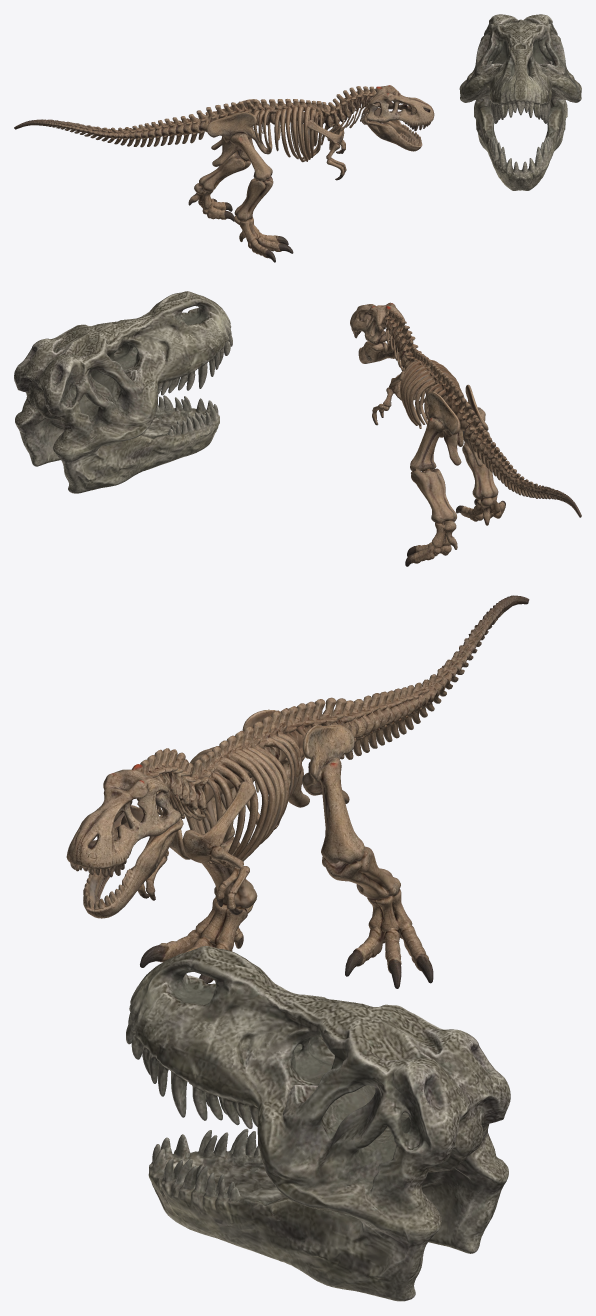
The model's file is trex.glb.
3 views of the same model, one above another, from view 1: azimuth 30°, elevation 25°; view 2: azimuth 150°, elevation 25°; view 3: azimuth 270°, elevation 25° (orthographic). The views are drawn at different scales.
Parts seen in each view (by area): view 1: body, head; view 2: head, body; view 3: head, body.
Boxes of the visible parts, left/top/right/bottom form: body: left=14, top=85, right=434, bottom=262; head: left=459, top=14, right=581, bottom=190; head: left=14, top=291, right=232, bottom=493; body: left=350, top=302, right=581, bottom=566; head: left=126, top=946, right=510, bottom=1301; body: left=66, top=595, right=529, bottom=988.
Size of the model in its own units: 2.74 by 0.7635 by 1.05.
Materials: 2 (2 with a texture image).
